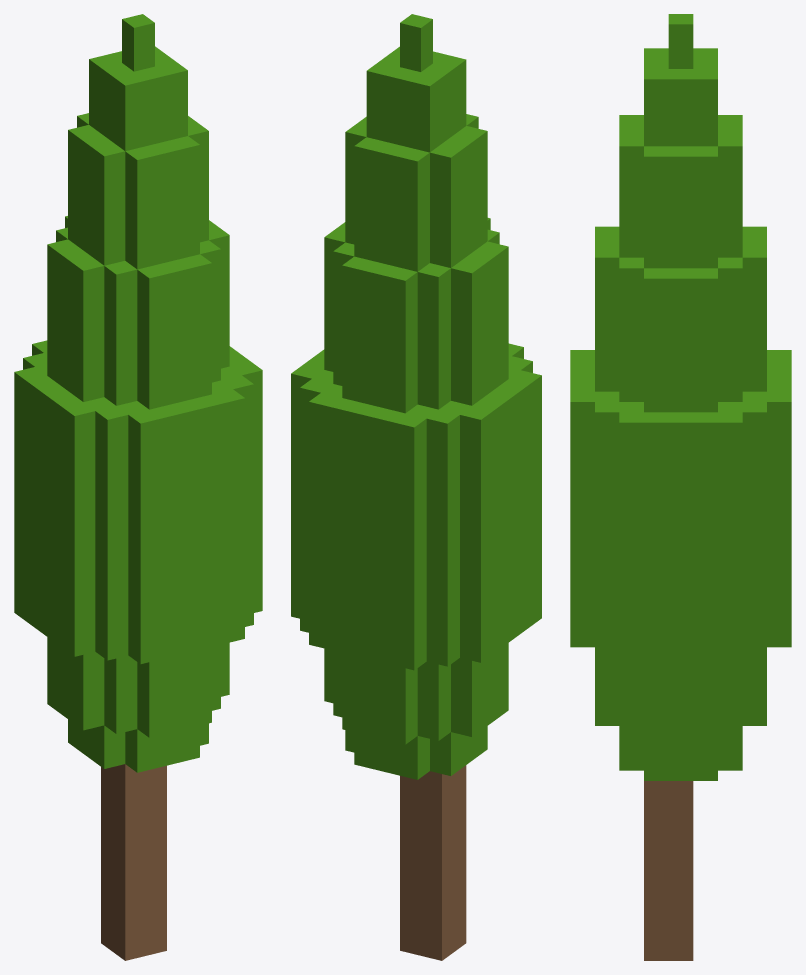
The model's file is alamo.obj.
3 renders of one model, left to right at view 1: azimuth 30°, elevation 25°; view 2: azimuth 150°, elevation 25°; view 3: azimuth 270°, elevation 25°, orthographic.
Size of the model in its own units: 0.9 by 4.2 by 0.9.
Materials: 1 (1 with a texture image).
